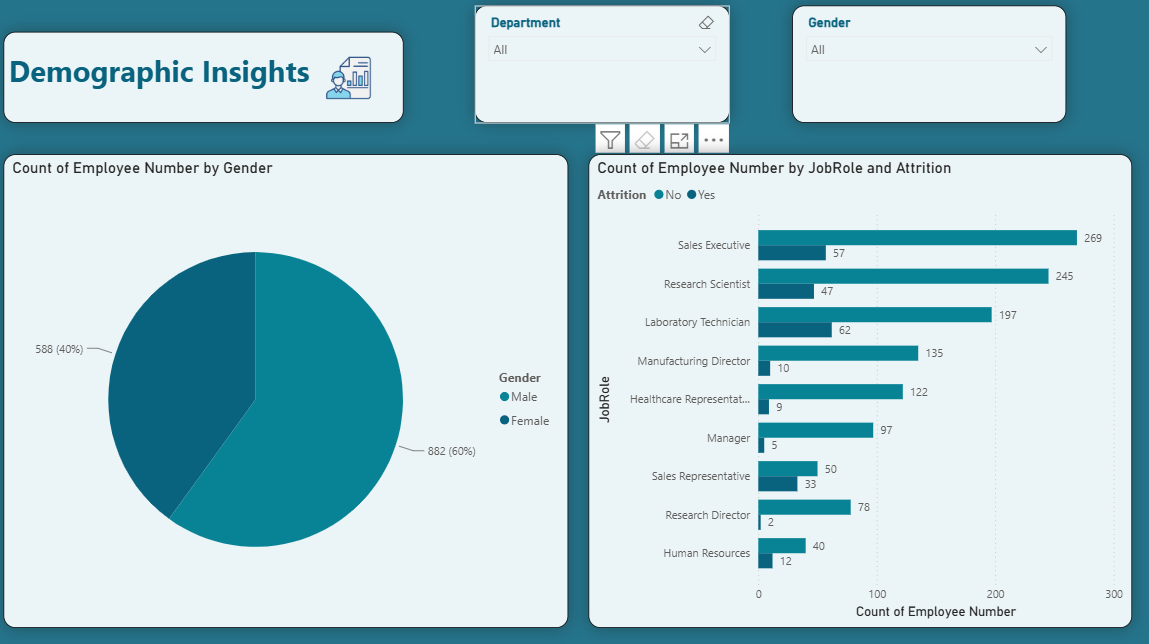

The dashboard page shown, as its layout file describes it:
{"tool":"powerbi","page":{"name":"Demographic Insights","canvas":[1280,720],"ordinal":4},"visuals":[{"type":"slicer","fields":{"Values":["HR Analytics Data.Department"]},"box":[536.5,13.7,279.9,129],"z":0},{"type":"slicer","fields":{"Values":["HR Analytics Data.Gender"]},"box":[885.1,13.7,300.5,129],"z":1000},{"type":"pieChart","fields":{"Category":["HR Analytics Data.Gender"],"Y":["CountNonNull(HR employee data.Employee Number)"]},"box":[19.2,177,620.2,520.1],"z":2000},{"type":"clusteredBarChart","fields":{"Category":["HR Analytics Data.JobRole"],"Y":["CountNonNull(HR employee data.Employee Number)"],"Series":["HR Analytics Data.Attrition"]},"box":[661.4,177,596.9,520.1],"z":3000},{"type":"textbox","box":[19.2,42.5,439.1,100.2],"z":4000},{"type":"image","box":[300.5,67.2,194.9,52.1],"z":5000}]}

Visuals, with their boxes in screenshot pixels (x1, y1, x2, y2), scaled from the page's 1280x720 canvas onto the 1149x644 screenshot:
slicer - HR Analytics Data.Department: <box>482,12,733,128</box>
slicer - HR Analytics Data.Gender: <box>795,12,1064,128</box>
pieChart - HR Analytics Data.Gender x CountNonNull(HR employee data.Employee Number): <box>17,158,574,624</box>
clusteredBarChart - HR Analytics Data.JobRole x CountNonNull(HR employee data.Employee Number): <box>594,158,1130,624</box>
textbox: <box>17,38,411,128</box>
image: <box>270,60,445,107</box>
